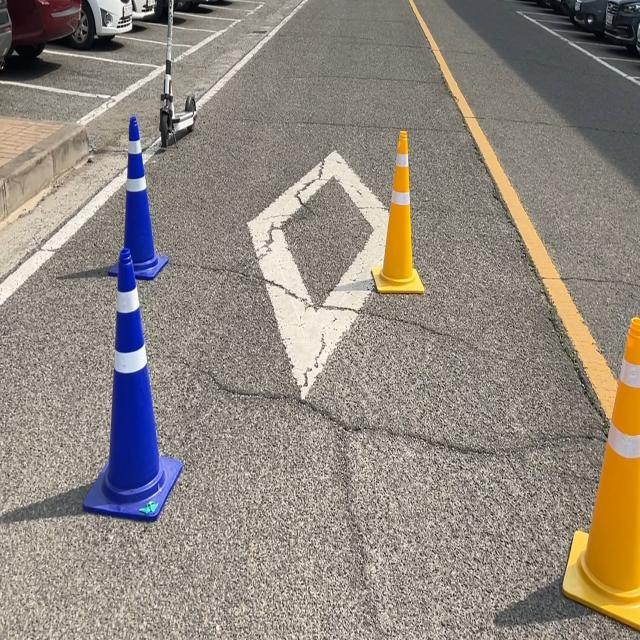b_rub: (82, 247, 182, 521), (124, 115, 168, 278)
y_rub: (564, 316, 640, 630), (372, 129, 425, 293)
